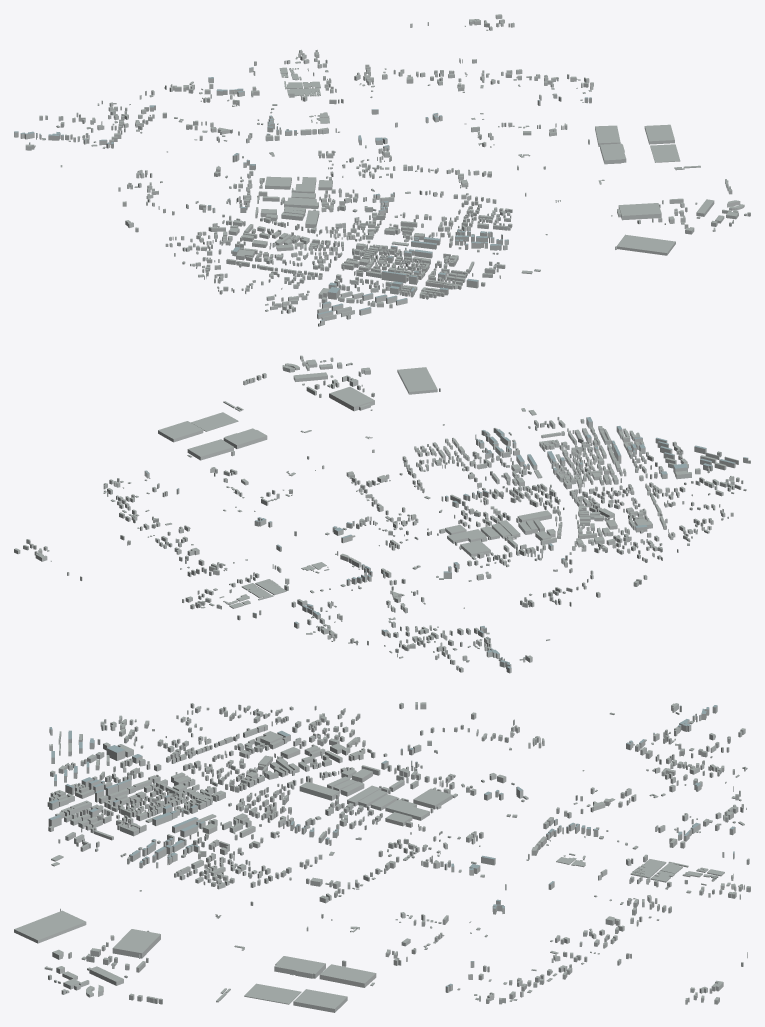
File: far.glb
3 renders of one model, top to bottom at view 1: azimuth 30°, elevation 25°; view 2: azimuth 150°, elevation 25°; view 3: azimuth 270°, elevation 25°, orthographic. The views are drawn at different scales.
Size of the model in its own units: 2169 by 32.98 by 2208.
